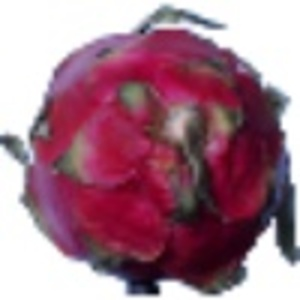pitaia: (1, 2, 300, 298)
